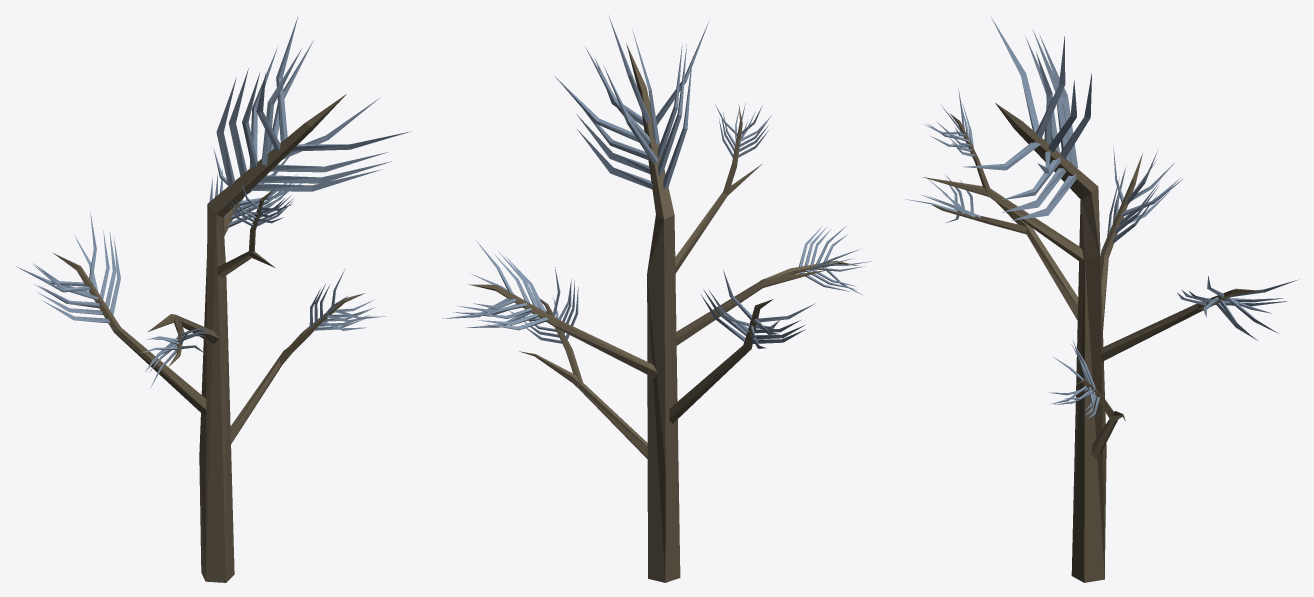
File: Blue_Spruce_3_3.fbx
3 renders of one model, left to right at view 1: azimuth 30°, elevation 25°; view 2: azimuth 150°, elevation 25°; view 3: azimuth 270°, elevation 25°, orthographic. The views are drawn at different scales.
Visible parts, largest first — view 1: Spurce_3_3; view 2: Spurce_3_3; view 3: Spurce_3_3.
Boxes of the visible parts, bbox=[...] form: Spurce_3_3: bbox=[15, 16, 411, 582]; Spurce_3_3: bbox=[442, 15, 871, 582]; Spurce_3_3: bbox=[904, 17, 1298, 582].
Size of the model in its own units: 178 by 286 by 178.
